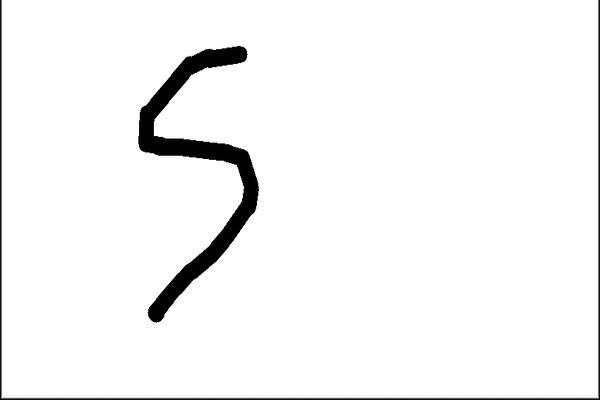S: (130, 42, 267, 324)
